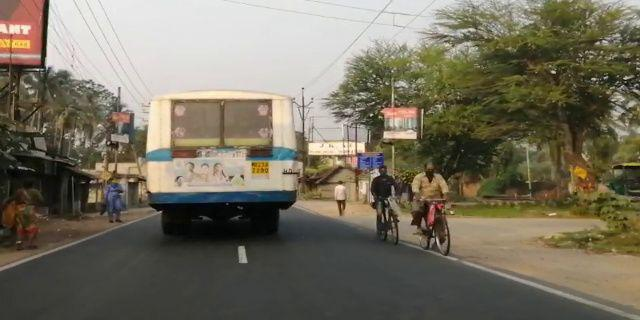Bus: (141, 88, 303, 244)
Cycle: (401, 156, 459, 255), (366, 163, 408, 247)
